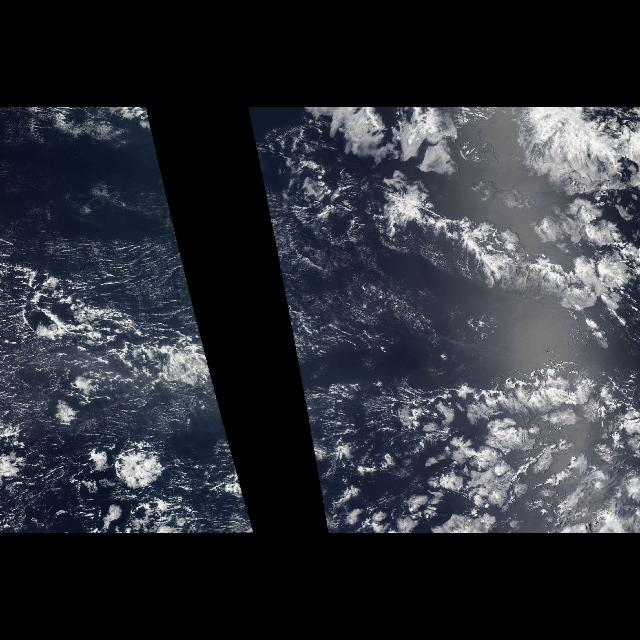Fish: (354, 178, 628, 326)
Flower: (298, 341, 638, 531), (98, 370, 255, 530), (317, 113, 503, 213)
Gravel: (2, 258, 174, 398)
Sugar: (5, 112, 208, 522), (248, 111, 456, 362)
